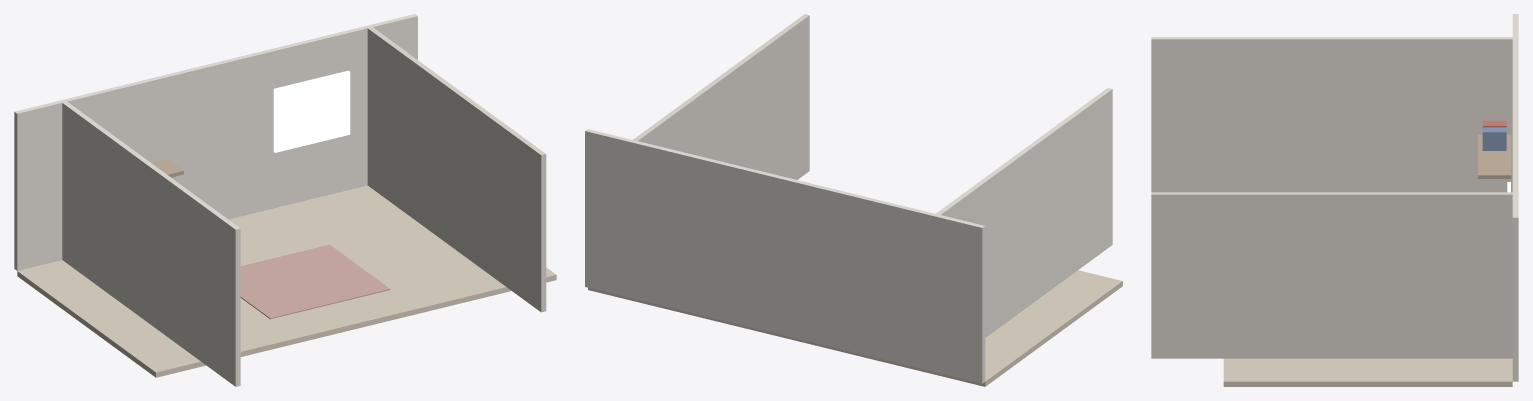
Rendered from room.glb.
3 renders of one model, left to right at view 1: azimuth 30°, elevation 25°; view 2: azimuth 150°, elevation 25°; view 3: azimuth 270°, elevation 25°, orthographic. The views are drawn at different scales.
Parts seen in each view (by area): view 1: back_wall, right_wall, left_wall, floor, rug, window; view 2: back_wall, left_wall, right_wall, floor; view 3: right_wall, left_wall, floor, back_wall, shelf, book_blue.
Boxes of the visible parts, x1,y1,x2,y2 form: back_wall: [14, 14, 417, 270]; right_wall: [367, 27, 546, 312]; left_wall: [62, 101, 240, 386]; floor: [17, 185, 556, 377]; rug: [240, 244, 390, 319]; window: [273, 70, 350, 152]; back_wall: [585, 129, 985, 383]; left_wall: [936, 88, 1112, 337]; right_wall: [633, 14, 809, 179]; floor: [588, 270, 1122, 386]; right_wall: [1151, 192, 1512, 358]; left_wall: [1151, 37, 1512, 192]; floor: [1223, 358, 1512, 386]; back_wall: [1512, 14, 1518, 381]; shelf: [1478, 134, 1511, 178]; book_blue: [1482, 127, 1506, 150].
Bounding box in the file's own units: 8 × 3.1 × 6.1.
